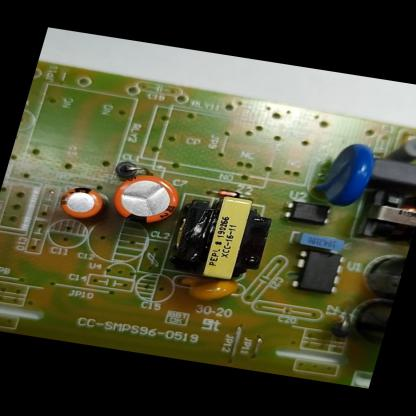Cap1: (103, 168, 189, 231)
Cap2: (48, 180, 116, 226)
Cap3: (352, 245, 408, 304)
Cap4: (332, 290, 394, 350)
MOSFET: (285, 242, 355, 301)
Mov: (302, 133, 385, 213)
Resistor: (380, 128, 416, 170)
Transformer: (154, 184, 284, 288), (346, 178, 416, 248)
